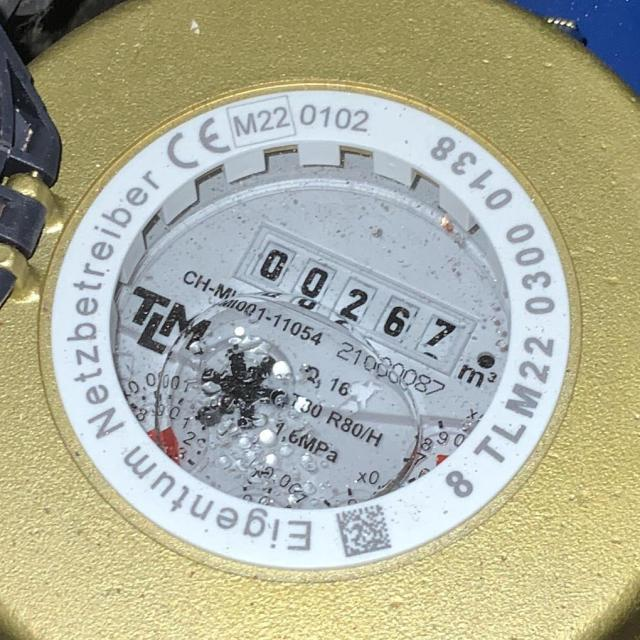gaz_meter: (53, 81, 574, 572)
indication: (229, 219, 483, 377)
